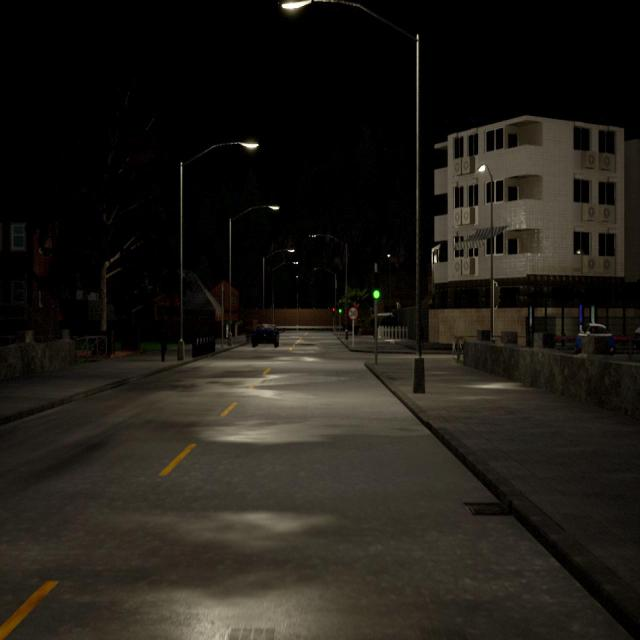Pedestrian: (157, 310, 169, 361)
Traffic_Signs: (348, 307, 358, 320)
Vehicle: (573, 322, 616, 355), (248, 324, 282, 349), (632, 324, 640, 354)
traffic_light: (494, 282, 502, 310), (373, 272, 380, 300), (339, 303, 342, 315), (332, 306, 335, 316)
